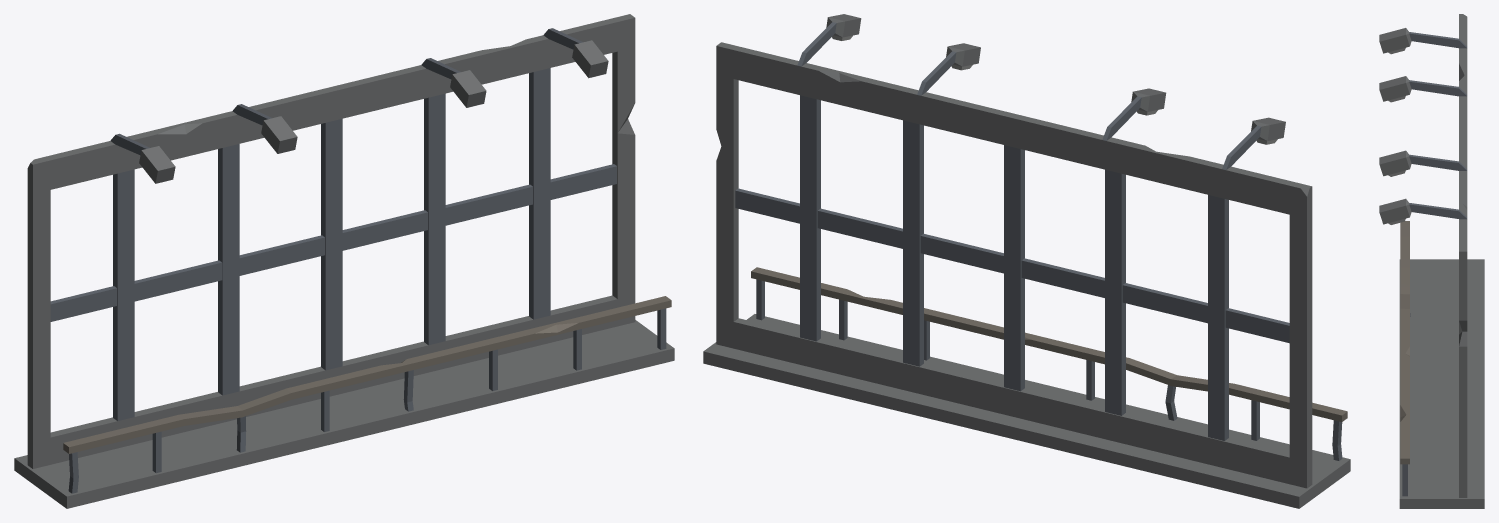
The model's file is SM_Prop_Billboard_01.obj.
3 renders of one model, left to right at view 1: azimuth 30°, elevation 25°; view 2: azimuth 150°, elevation 25°; view 3: azimuth 270°, elevation 25°, orthographic. The views are drawn at different scales.
Visible parts, largest first — view 1: SM_Prop_Billboard_01_0; view 2: SM_Prop_Billboard_01_0; view 3: SM_Prop_Billboard_01_0.
Part boxes in pixels (<box>): SM_Prop_Billboard_01_0: <box>14,14,674,508</box>; SM_Prop_Billboard_01_0: <box>703,14,1350,508</box>; SM_Prop_Billboard_01_0: <box>1379,14,1484,508</box>.
Bounding box in the file's own units: 4.43 × 2.35 × 0.8203.
Materials: 1 (1 with a texture image).
